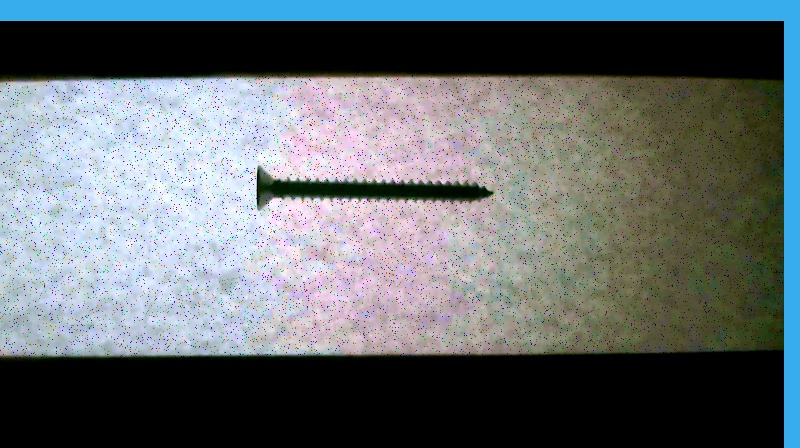S002: (252, 160, 495, 211)
